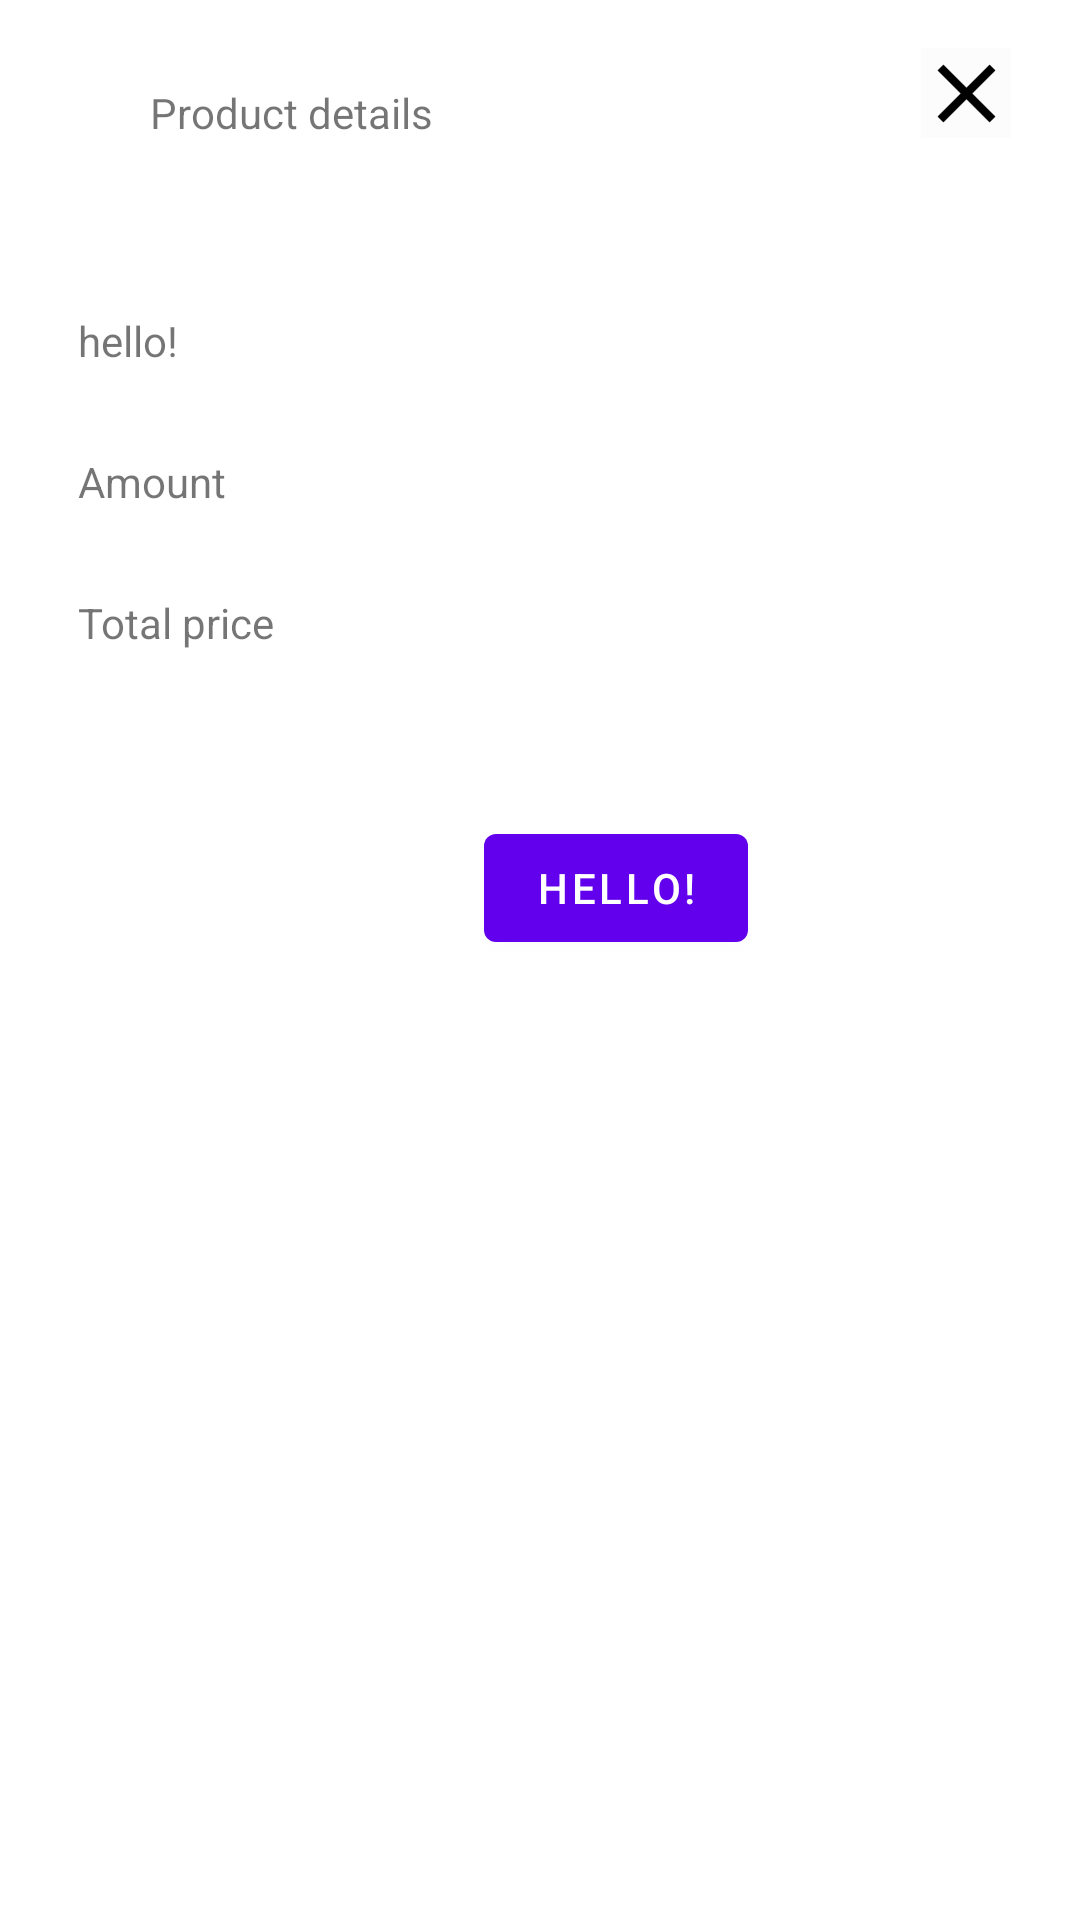

Screen size 1080*1920. Icon name, then its box in pixels as (x1, y1, x2, y2):
close: (937, 64, 996, 123)
